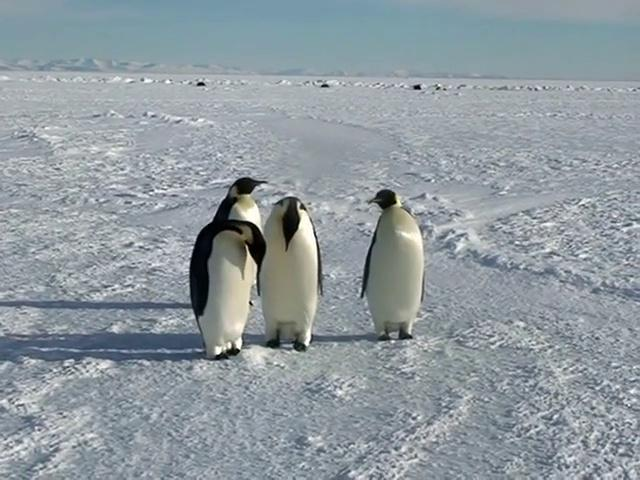animal: (362, 190, 425, 340)
